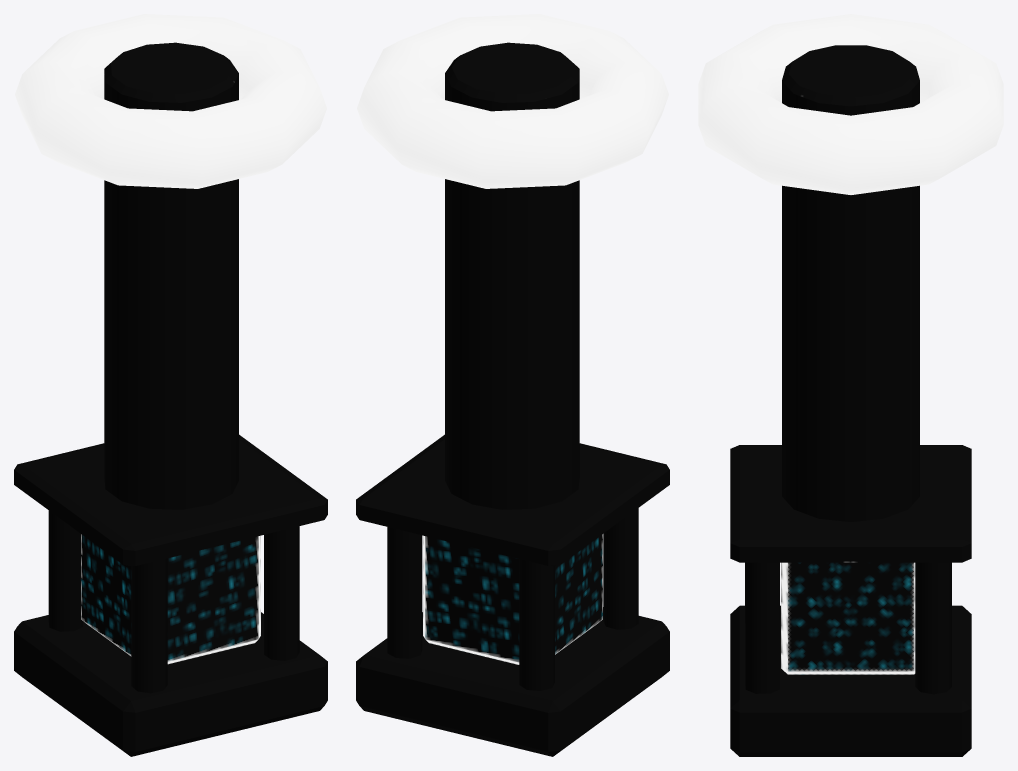
Rendered from TESLA_Coil.fbx.
3 renders of one model, left to right at view 1: azimuth 30°, elevation 25°; view 2: azimuth 150°, elevation 25°; view 3: azimuth 270°, elevation 25°, orthographic. The views are drawn at different scales.
Parts seen in each view (by area): view 1: TESLA_coil; view 2: TESLA_coil; view 3: TESLA_coil.
Boxes of the visible parts, <box> form: TESLA_coil: <box>14,14,327,756</box>; TESLA_coil: <box>356,14,669,756</box>; TESLA_coil: <box>698,14,1003,756</box>.
Bounding box in the file's own units: 1.33 × 2.92 × 1.26.
